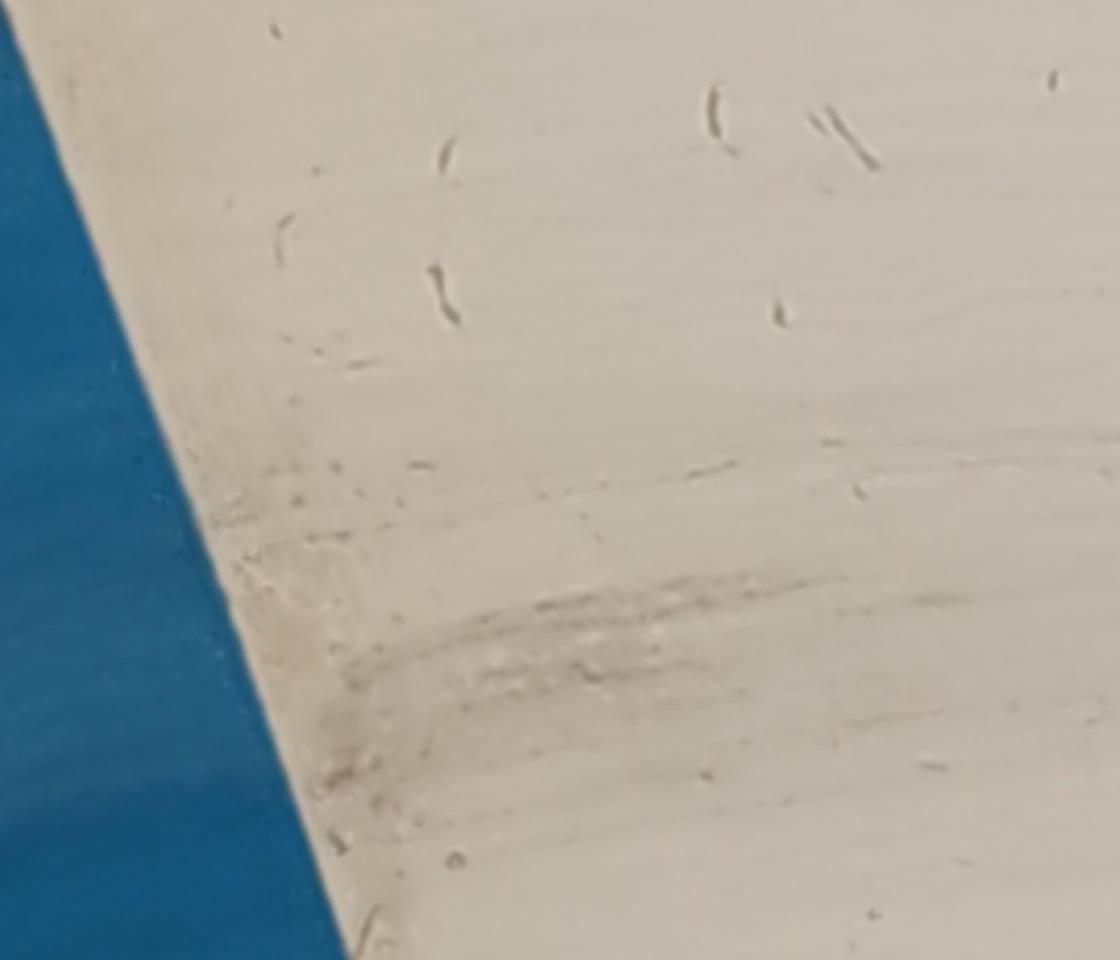scratch: (823, 96, 884, 177), (419, 258, 466, 335), (697, 85, 733, 146)
